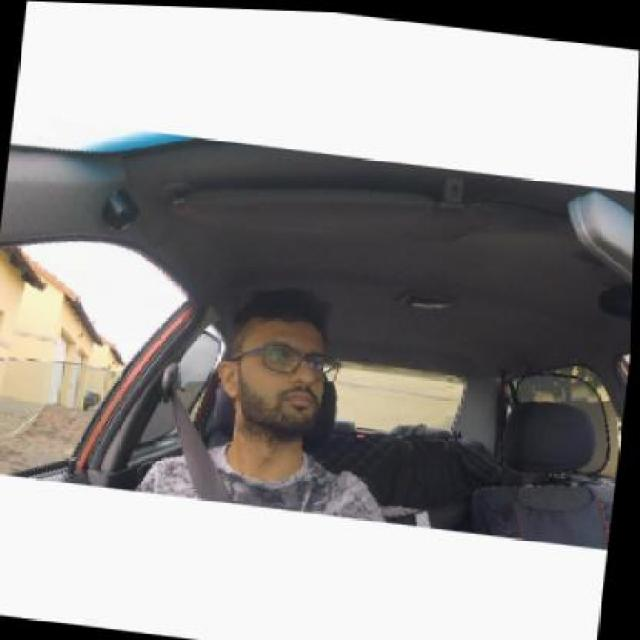person: (208, 280, 349, 458)
